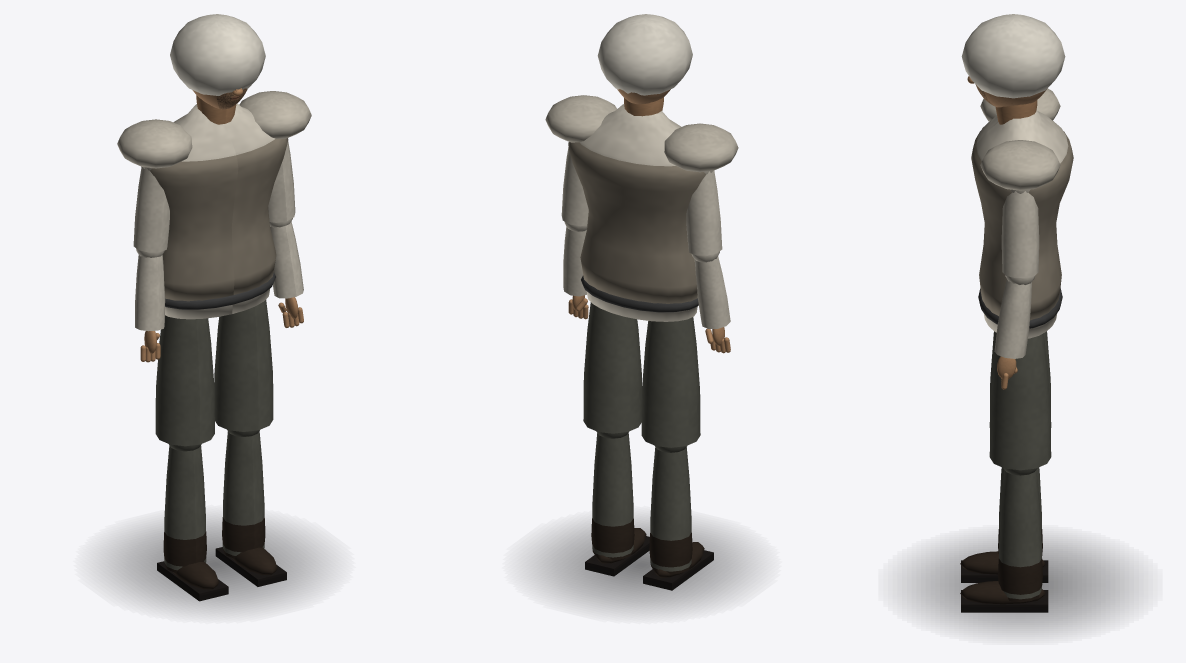
The model's file is npc_saltguard.glb.
3 views of the same model, side by side, from view 1: azimuth 30°, elevation 25°; view 2: azimuth 150°, elevation 25°; view 3: azimuth 270°, elevation 25° (orthographic). The views are drawn at different scales.
Parts seen in each view (by area): view 1: chest, object 11, legL, legR, head, shinL, shinR, foreL, foreR, armL, armR; view 2: chest, object 11, legL, legR, head, shinL, shinR, foreL, armL, foreR, armR; view 3: chest, object 11, head, shinR, legR, armR, foreR, shinL.
Part boxes in pixels (<box>): chest: <box>117,91,311,319</box>; object 11: <box>102,517,326,611</box>; legL: <box>155,315,214,446</box>; legR: <box>214,299,273,431</box>; head: <box>170,14,265,109</box>; shinL: <box>157,444,228,601</box>; shinR: <box>215,429,286,586</box>; foreL: <box>135,248,165,362</box>; foreR: <box>269,218,303,327</box>; armL: <box>133,167,169,252</box>; armR: <box>268,140,295,222</box>; chest: <box>545,95,738,321</box>; object 11: <box>530,518,753,611</box>; legL: <box>641,317,700,447</box>; legR: <box>583,302,642,433</box>; head: <box>597,14,692,104</box>; shinL: <box>643,445,713,590</box>; shinR: <box>585,431,649,576</box>; foreL: <box>691,251,730,353</box>; armL: <box>686,170,722,255</box>; foreR: <box>563,221,588,319</box>; armR: <box>561,147,588,226</box>; chest: <box>971,88,1073,338</box>; object 11: <box>907,537,1133,632</box>; head: <box>961,14,1065,107</box>; shinR: <box>960,468,1048,612</box>; legR: <box>989,333,1051,470</box>; armR: <box>1001,189,1039,277</box>; foreR: <box>994,275,1035,389</box>; shinL: <box>960,467,1048,582</box>.
Size of the model in its own units: 0.868 by 1.81 by 0.868.
Materials: 5 (4 with a texture image).
